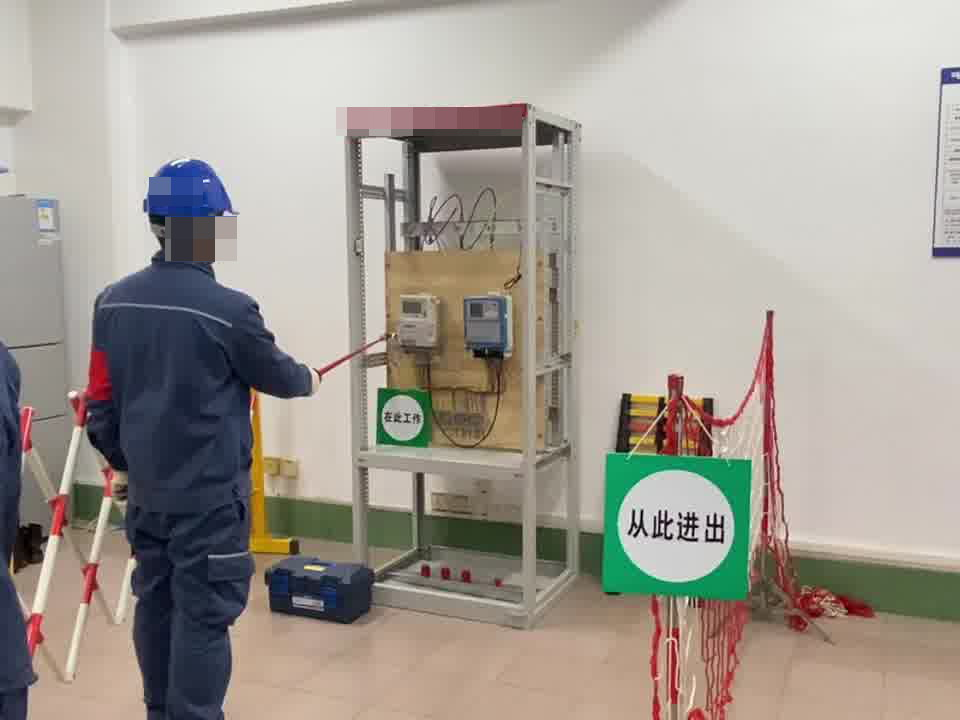badge: (78, 347, 115, 414)
downsuit: (125, 508, 253, 720)
halt: (145, 158, 239, 259)
inear: (199, 216, 227, 253)
intosign: (607, 453, 742, 598)
person: (75, 153, 316, 720)
testrod: (308, 329, 395, 389)
upsuit: (86, 257, 310, 496)
wglove: (104, 469, 126, 513), (304, 366, 321, 395)
worksign: (376, 389, 431, 449)
